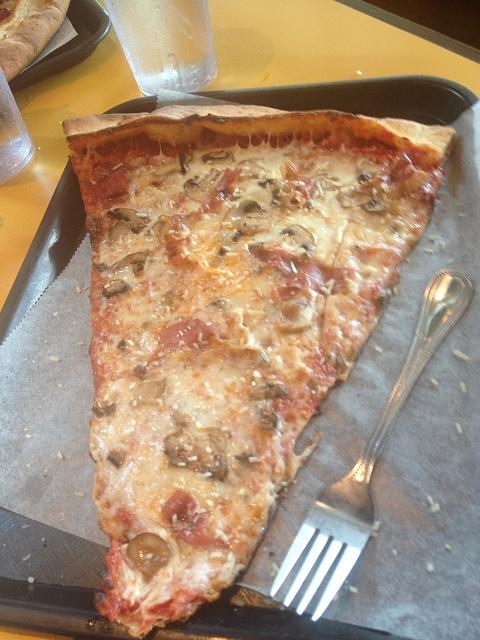mushroom: (162, 431, 228, 480), (219, 200, 271, 250), (126, 532, 171, 578), (107, 208, 151, 244), (184, 168, 221, 203), (128, 378, 167, 408), (279, 225, 316, 255), (274, 310, 316, 334), (109, 252, 146, 276), (247, 381, 286, 402), (103, 278, 129, 298), (203, 150, 236, 164), (107, 447, 126, 469), (362, 200, 386, 212), (180, 152, 190, 175)
